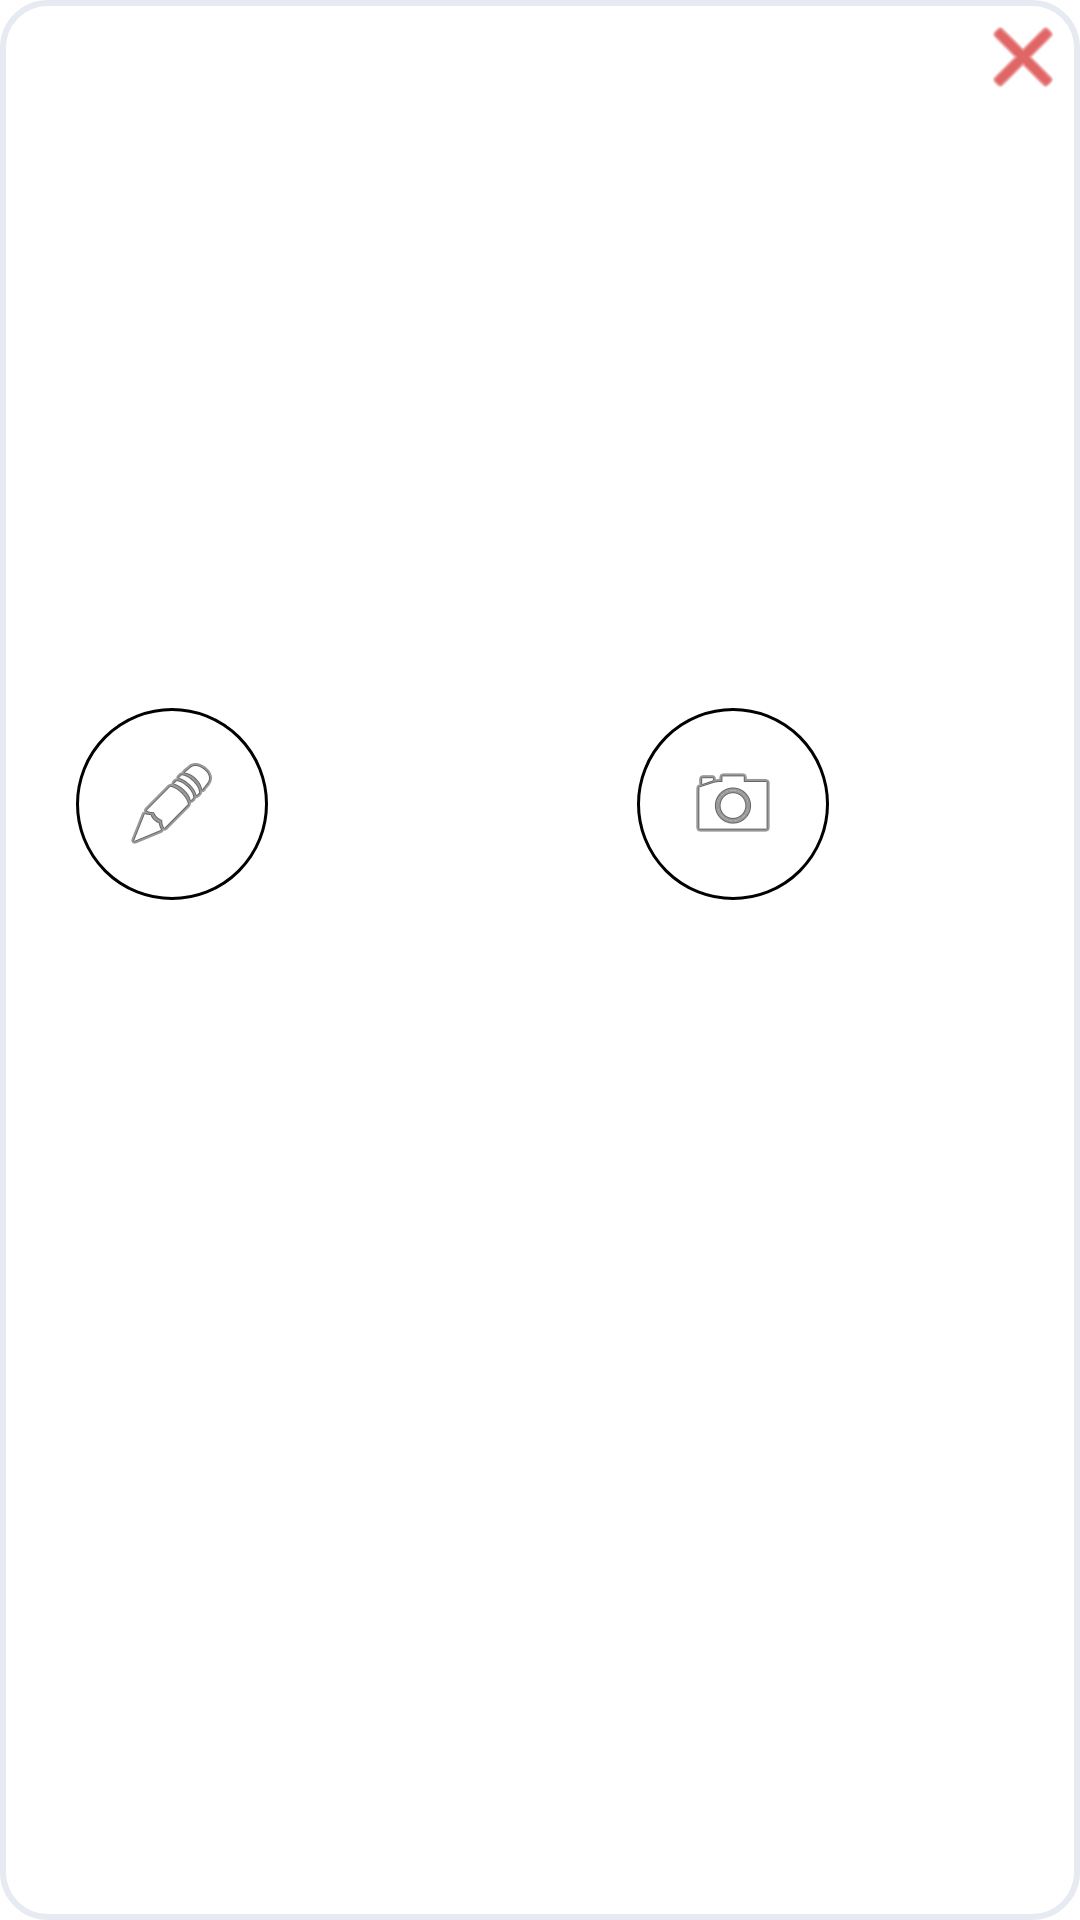

Where to tap for icons on this 1080 x 1920 app screen, as (x=x, y=y):
Camera: (x=733, y=804)
Close: (x=1023, y=57)
Edit: (x=172, y=804)
